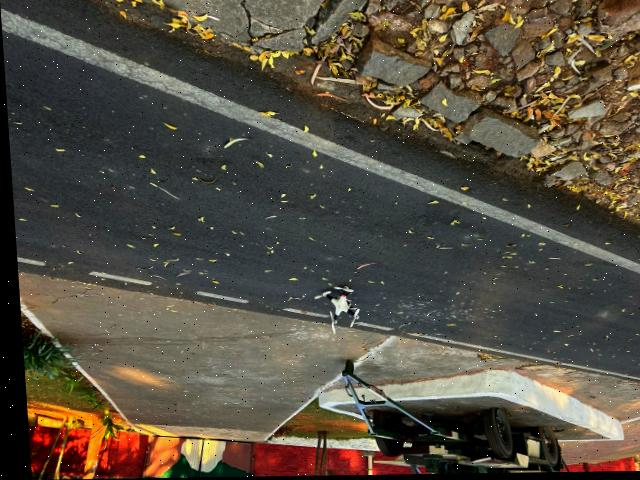drone: (281, 270, 390, 347)
